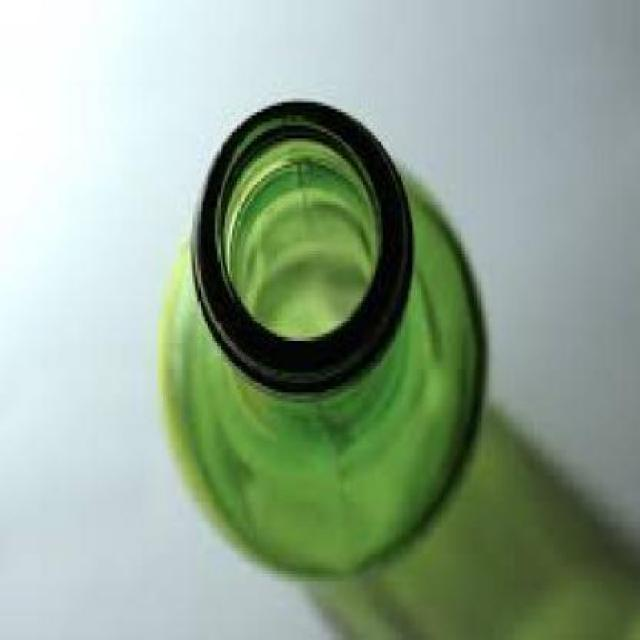kaca: (156, 95, 482, 574)
